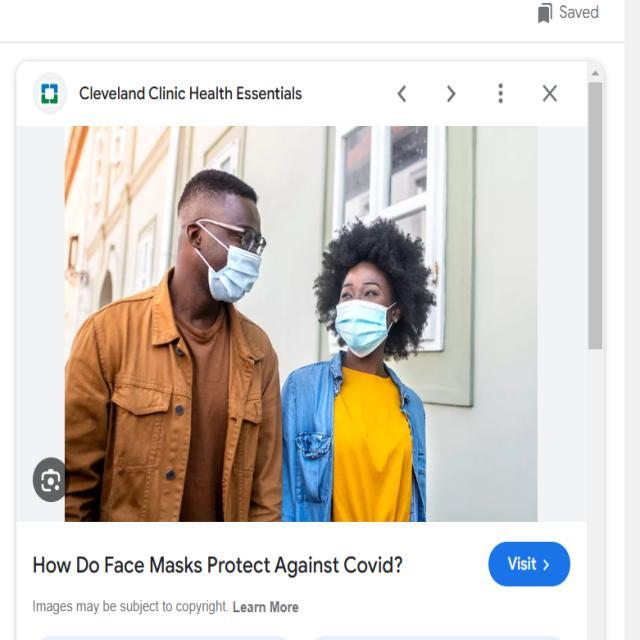face_mask: (186, 183, 264, 312), (336, 259, 400, 354)
